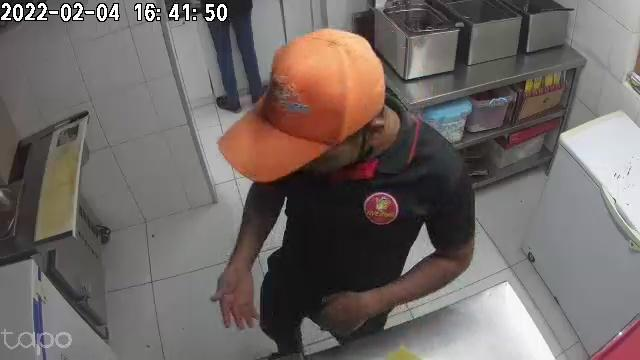no_gloves: (209, 257, 261, 330)
